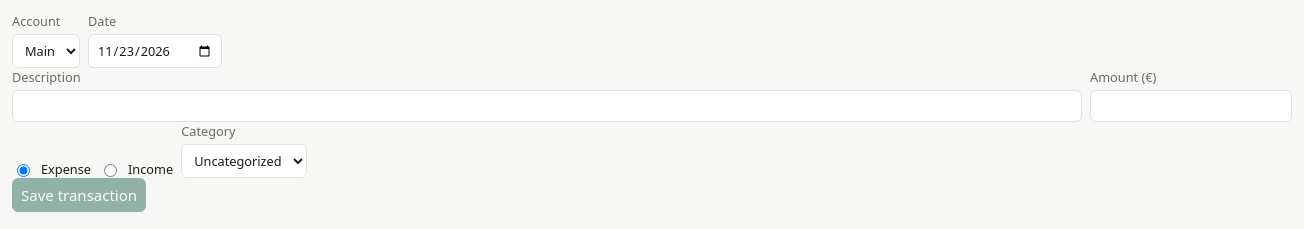
Test case: AddTransactionForm › pre-selects the suggested category for the description
Type "Continente" into the field labelled "Description" at (547, 106), box [12,90,1082,122]
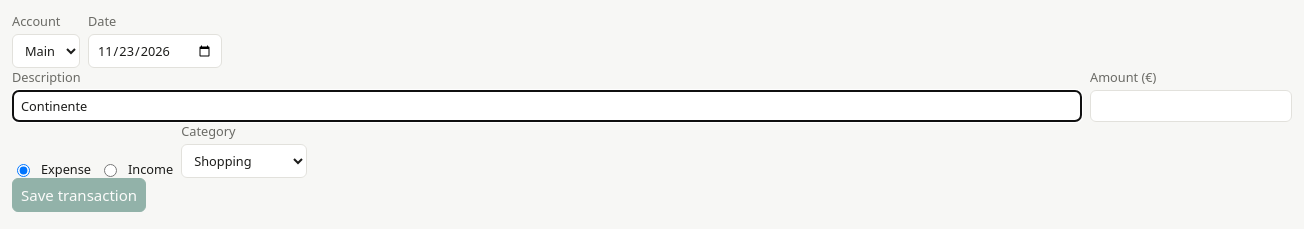
Check: the dropdown labelled "Category" shows "Shopping", box [181,144,307,178]
